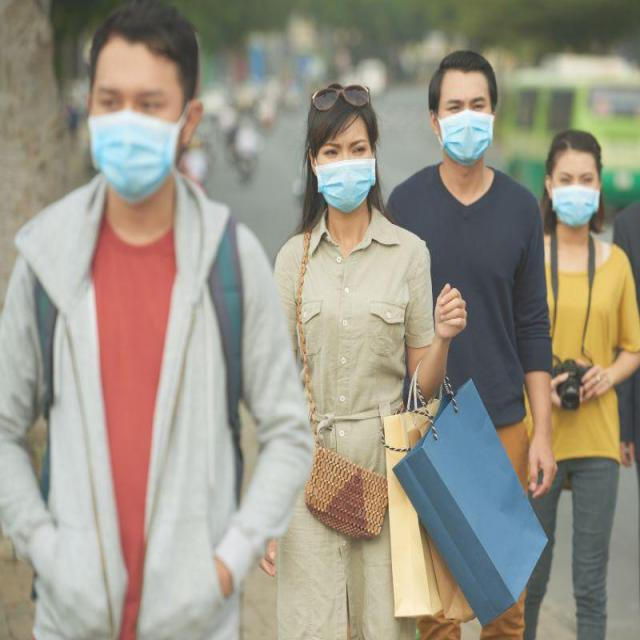face: (80, 2, 202, 203), (294, 76, 384, 221), (420, 47, 502, 172), (540, 126, 614, 224)
